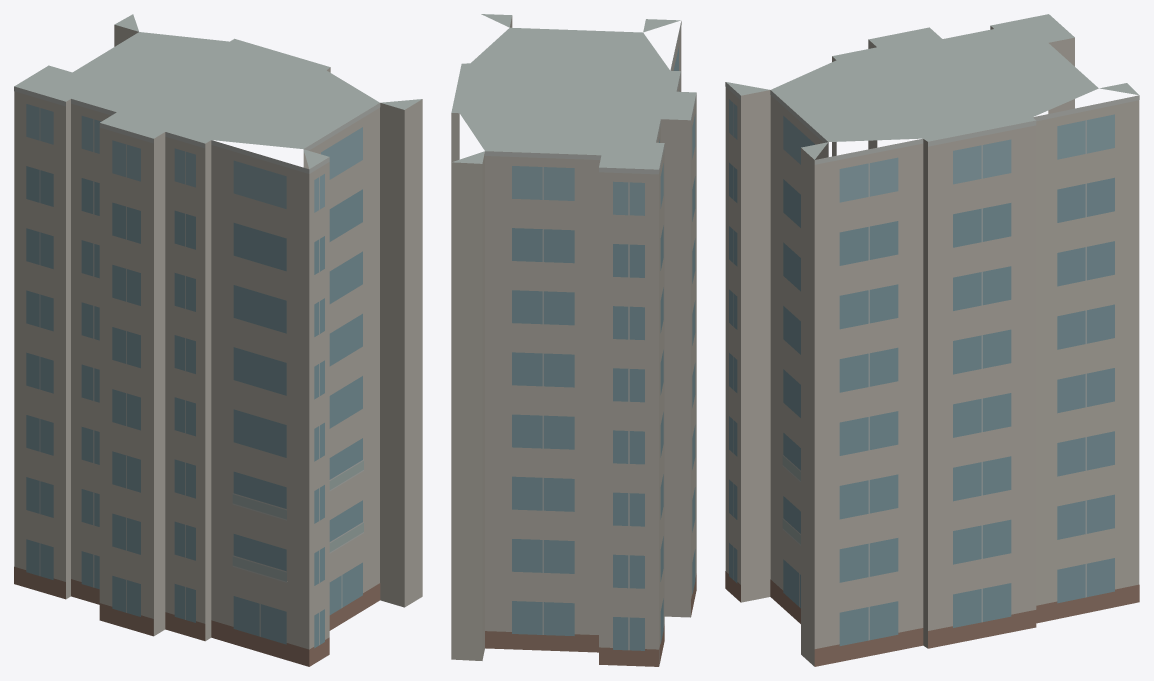
The model's file is survey-upis-32961968.glb.
3 renders of one model, left to right at view 1: azimuth 30°, elevation 25°; view 2: azimuth 150°, elevation 25°; view 3: azimuth 270°, elevation 25°, orthographic.
Parts seen in each view (by area): view 1: survey-upis-32961968.tmp; view 2: survey-upis-32961968.tmp; view 3: survey-upis-32961968.tmp.
Part boxes in pixels (left/top/right/bottom): survey-upis-32961968.tmp: left=14, top=14, right=422, bottom=666; survey-upis-32961968.tmp: left=451, top=14, right=696, bottom=666; survey-upis-32961968.tmp: left=725, top=14, right=1139, bottom=666.
Bounding box in the file's own units: 15.63 × 25.3 × 18.73.
